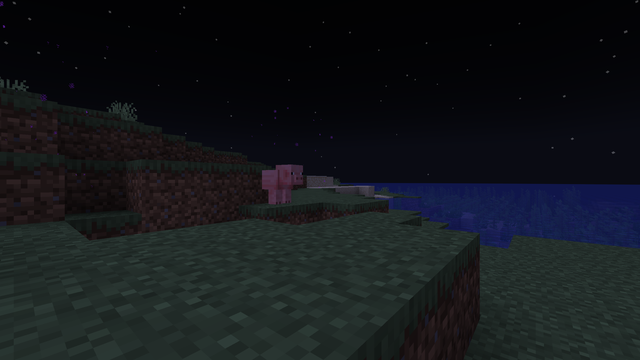cochons: (257, 168, 294, 204)
